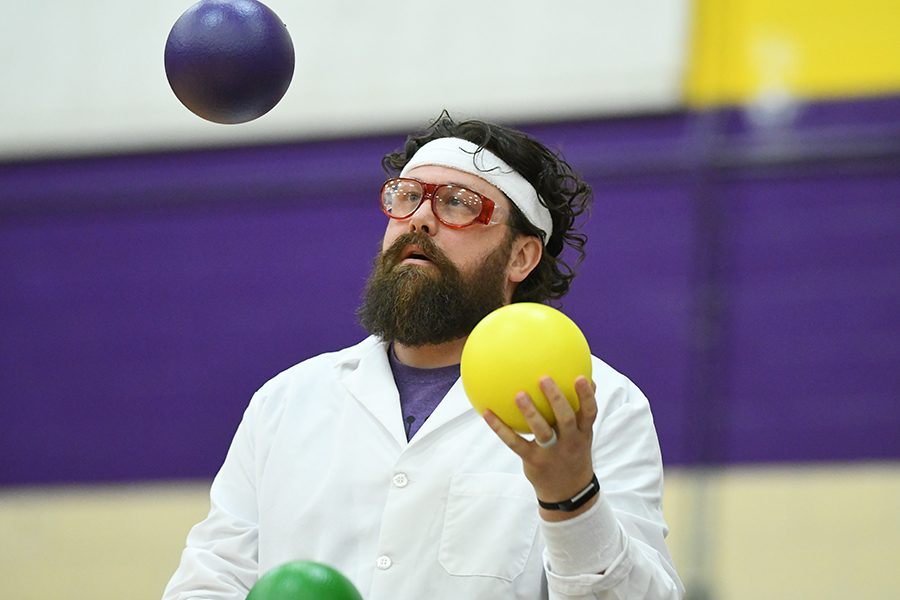blue ball: (162, 1, 297, 128)
